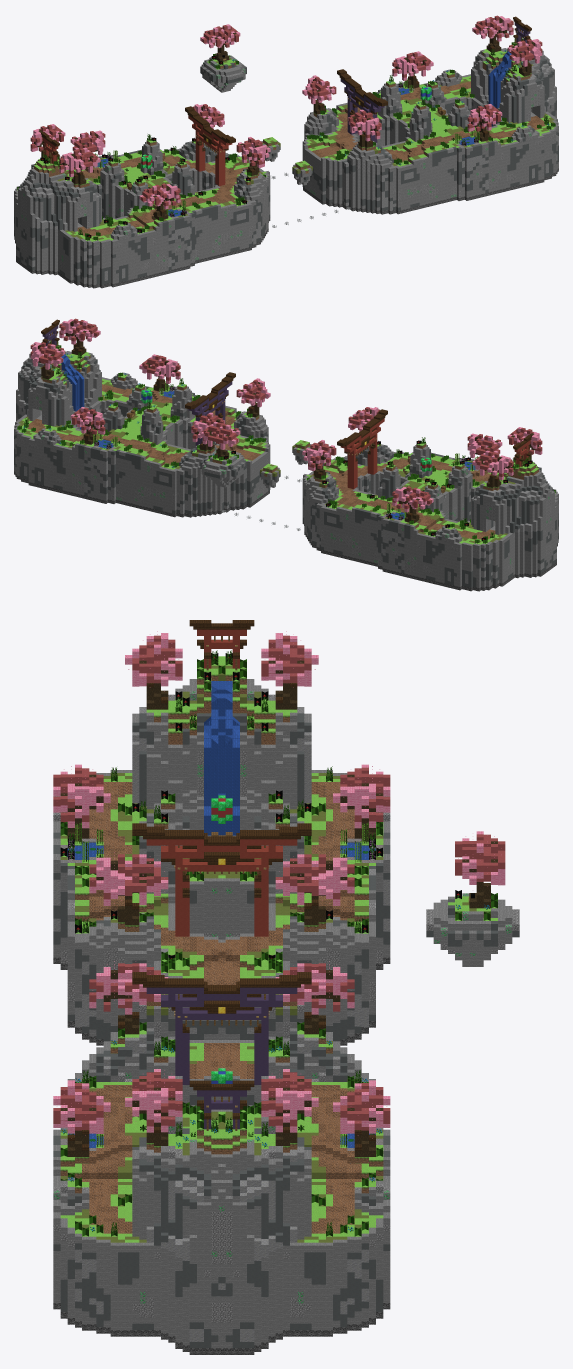
File: minecraft.obj
3 renders of one model, top to bottom at view 1: azimuth 30°, elevation 25°; view 2: azimuth 150°, elevation 25°; view 3: azimuth 270°, elevation 25°, orthographic. The views are drawn at different scales.
Bounding box in the file's own units: 169 × 40 × 65.
